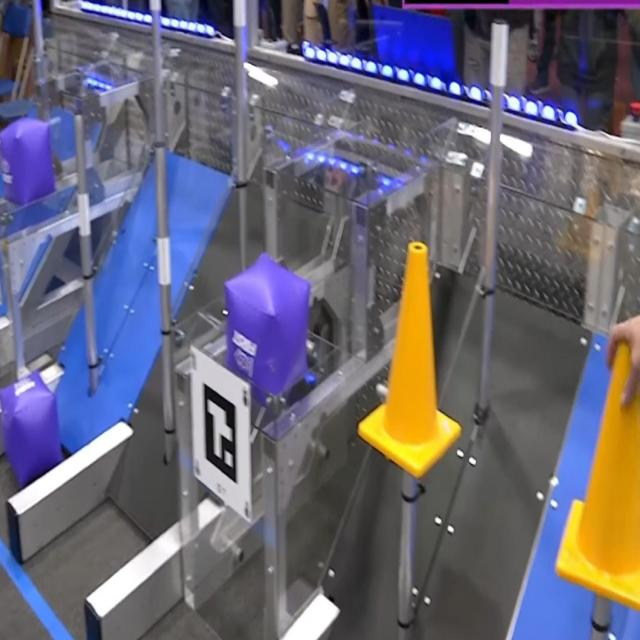frc_cone: (357, 242, 462, 478), (555, 340, 640, 616)
frc_cube: (223, 255, 310, 403), (0, 367, 60, 485), (0, 116, 57, 204)
